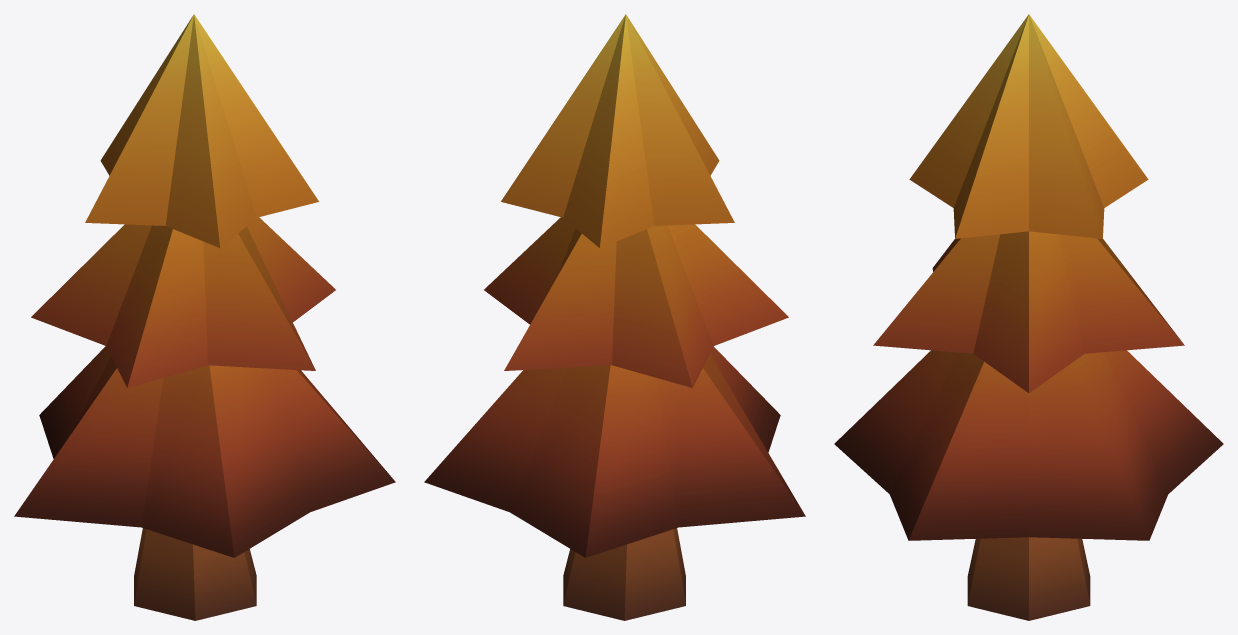
File: pinetree_red.fbx
The picture shows the model from 3 angles, left to right: view 1: azimuth 30°, elevation 25°; view 2: azimuth 150°, elevation 25°; view 3: azimuth 270°, elevation 25°; orthographic projection.
Parts seen in each view (by area): view 1: pinetree_alt.001; view 2: pinetree_alt.001; view 3: pinetree_alt.001.
Part boxes in pixels (left/top/right/bottom): pinetree_alt.001: left=14, top=14, right=395, bottom=620; pinetree_alt.001: left=424, top=14, right=805, bottom=620; pinetree_alt.001: left=834, top=14, right=1223, bottom=620.
Bounding box in the file's own units: 16.3 × 27.91 × 17.11.
